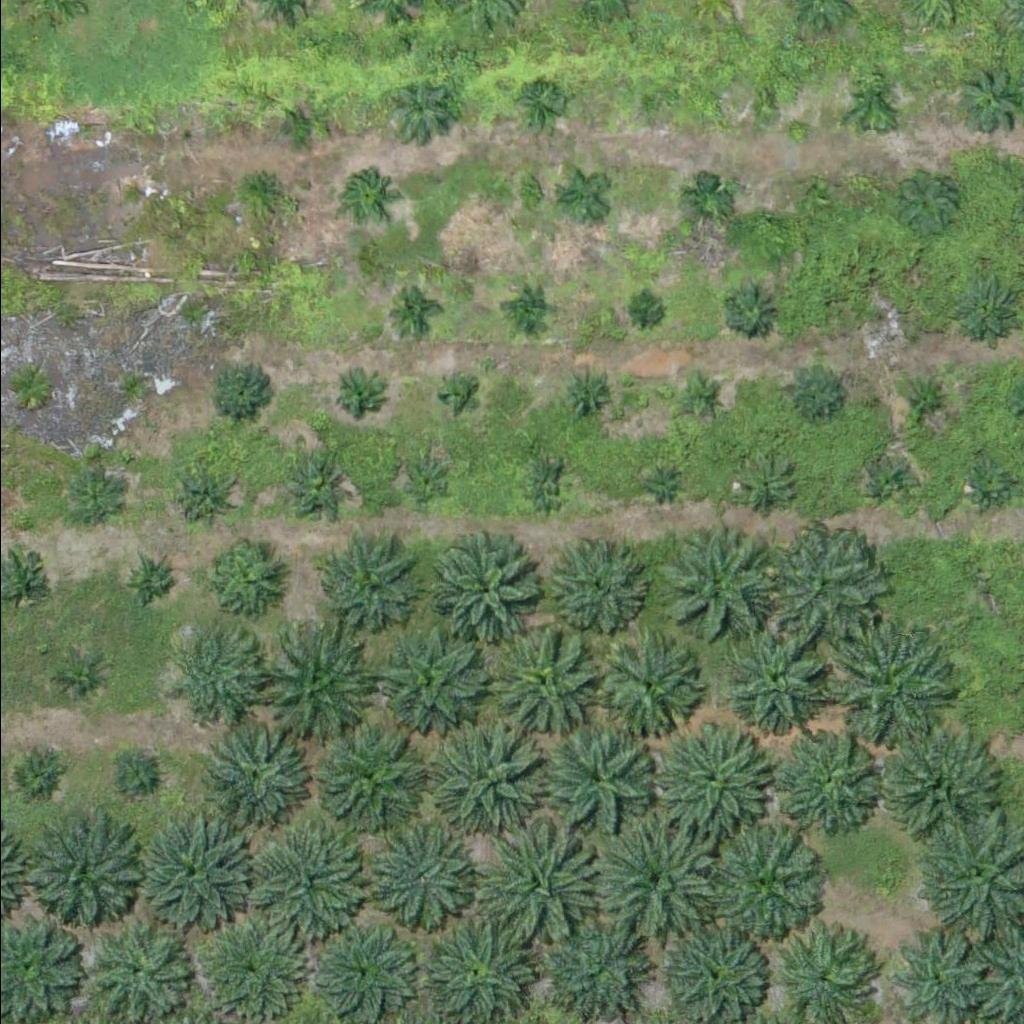Kelapa_Sawit: (825, 627, 951, 752), (592, 817, 718, 942), (702, 819, 828, 944), (424, 714, 550, 839), (476, 821, 602, 946), (883, 729, 997, 842), (251, 829, 365, 942), (657, 719, 770, 832), (540, 718, 653, 831), (196, 715, 309, 828), (196, 907, 309, 1020), (307, 721, 421, 833), (251, 629, 365, 741), (367, 625, 481, 737), (484, 628, 598, 740), (765, 528, 878, 640), (659, 537, 772, 649), (130, 817, 243, 929), (18, 817, 131, 929), (727, 630, 828, 730), (599, 636, 700, 736), (303, 920, 404, 1020), (363, 832, 464, 932), (663, 923, 763, 1023), (540, 908, 640, 1008), (779, 729, 879, 829), (434, 541, 534, 641), (308, 529, 408, 629), (197, 531, 285, 618), (550, 546, 638, 633), (170, 631, 258, 718), (888, 163, 963, 238), (170, 466, 233, 529), (387, 80, 450, 143), (211, 361, 274, 424), (783, 361, 846, 424), (280, 460, 343, 522), (952, 279, 1015, 341), (118, 554, 181, 616), (386, 283, 437, 333), (332, 367, 383, 417), (738, 460, 789, 510), (850, 76, 901, 126), (725, 283, 776, 333), (903, 376, 954, 426), (273, 101, 324, 151), (238, 163, 289, 213), (64, 473, 114, 523), (521, 465, 571, 515), (504, 285, 554, 335), (559, 173, 609, 223), (516, 80, 566, 130), (341, 168, 391, 218), (679, 175, 729, 225), (53, 652, 103, 702), (866, 460, 916, 510), (965, 459, 1015, 509), (676, 371, 726, 421), (402, 454, 452, 504), (562, 370, 612, 420), (112, 749, 162, 799), (9, 750, 59, 800), (795, 183, 833, 221), (439, 374, 477, 412), (875, 306, 900, 331), (646, 472, 671, 497), (632, 295, 657, 320), (639, 94, 664, 119), (755, 94, 780, 119), (121, 178, 146, 203)
